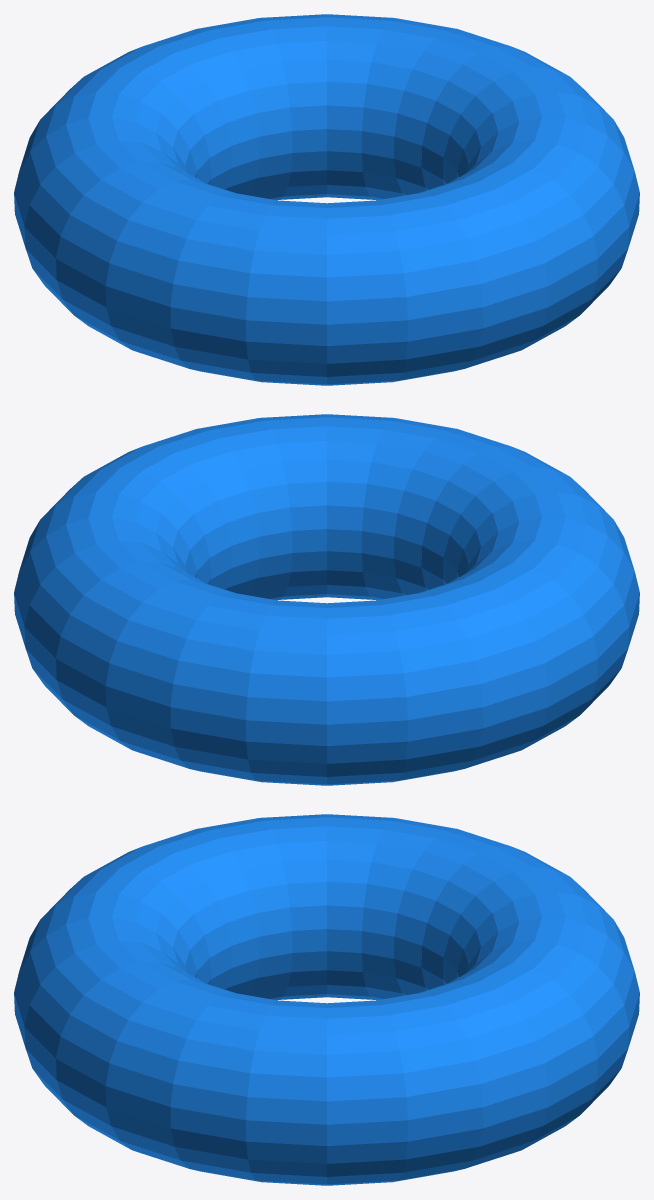
Rendered from Proto_Block_Torus_01.fbx.
3 views of the same model, one above another, from view 1: azimuth 30°, elevation 25°; view 2: azimuth 150°, elevation 25°; view 3: azimuth 270°, elevation 25° (orthographic).
Parts seen in each view (by area): view 1: Proto_Block_Torus_01; view 2: Proto_Block_Torus_01; view 3: Proto_Block_Torus_01.
Boxes of the visible parts, box(x1,y1,x2,y2) form: Proto_Block_Torus_01: box(14, 14, 639, 385); Proto_Block_Torus_01: box(14, 414, 639, 785); Proto_Block_Torus_01: box(14, 814, 639, 1185).
Size of the model in its own units: 1 by 0.2924 by 1.
